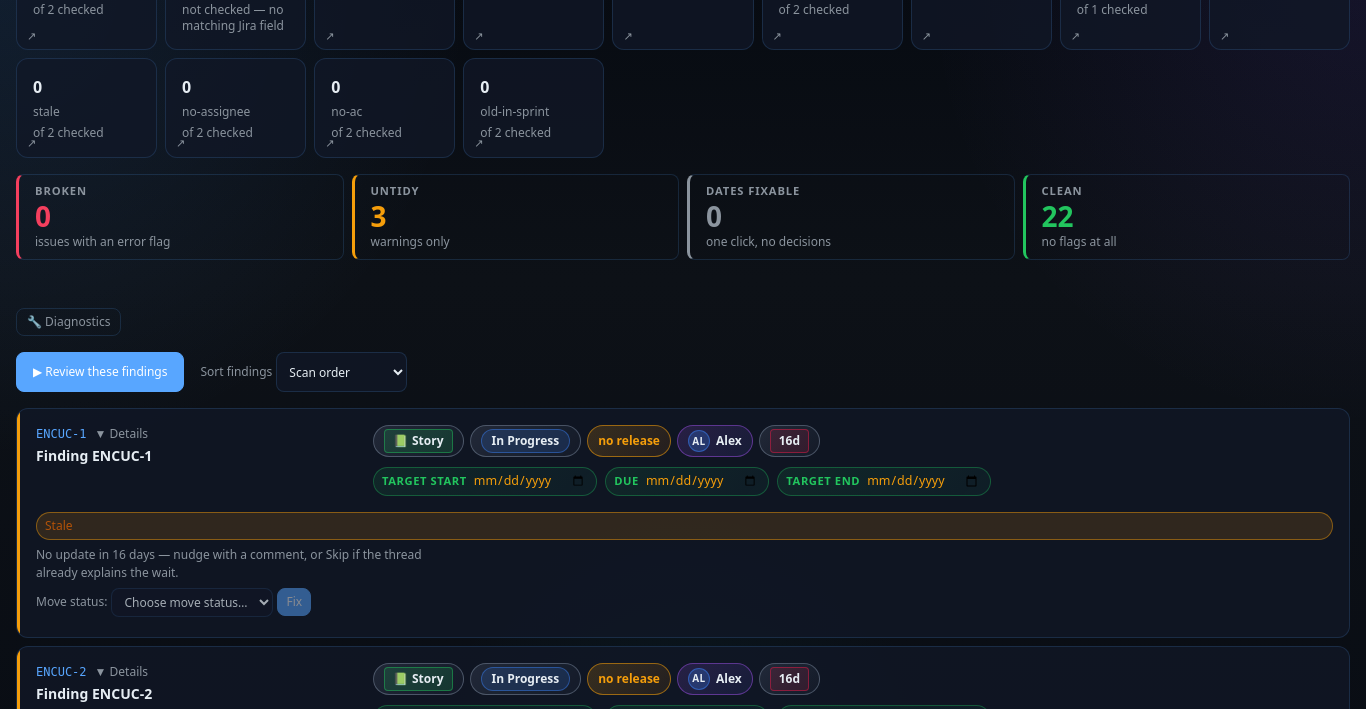
Test case: HygieneView › Skip settles the current finding visibly and advances the cursor
The image size is (1366, 709).
(page scrolled)
Click the button "▶ Review these findings" at point(100, 372), box [16,352,184,392]
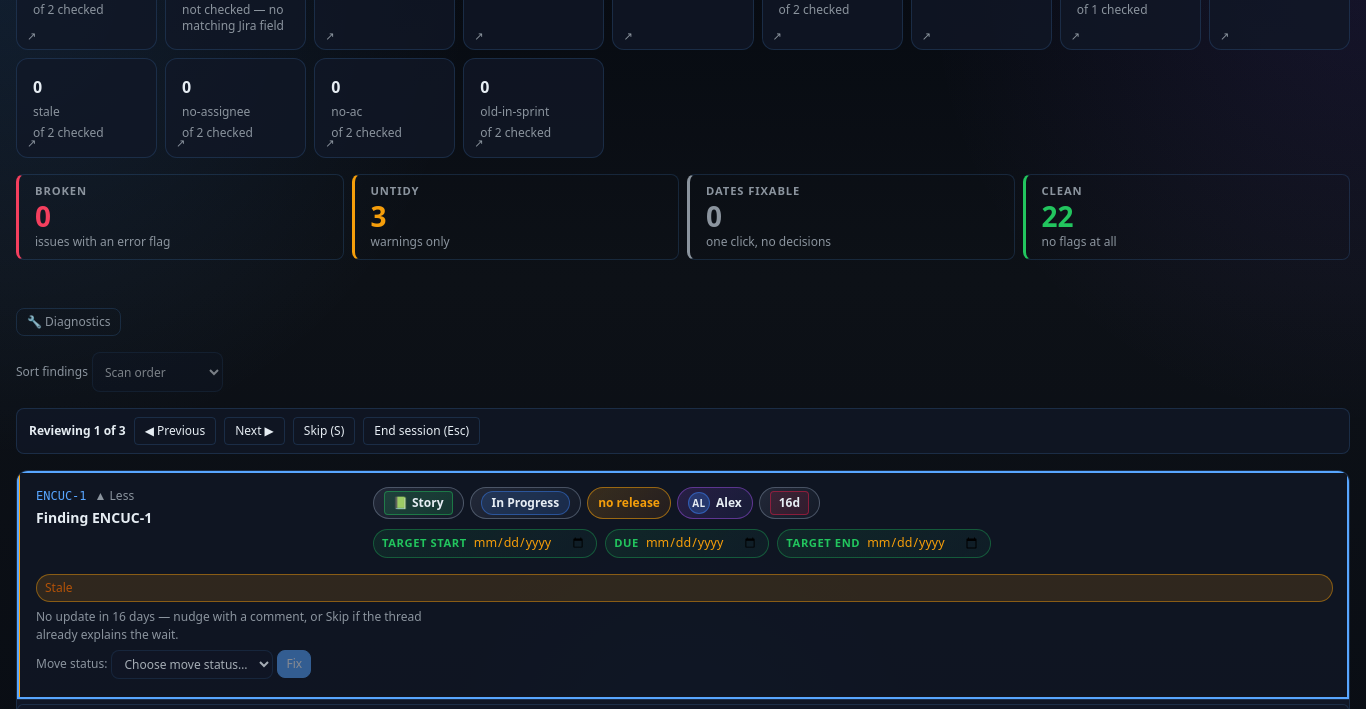
Click the button "Skip (S)" at point(324, 431), box [293,417,355,445]
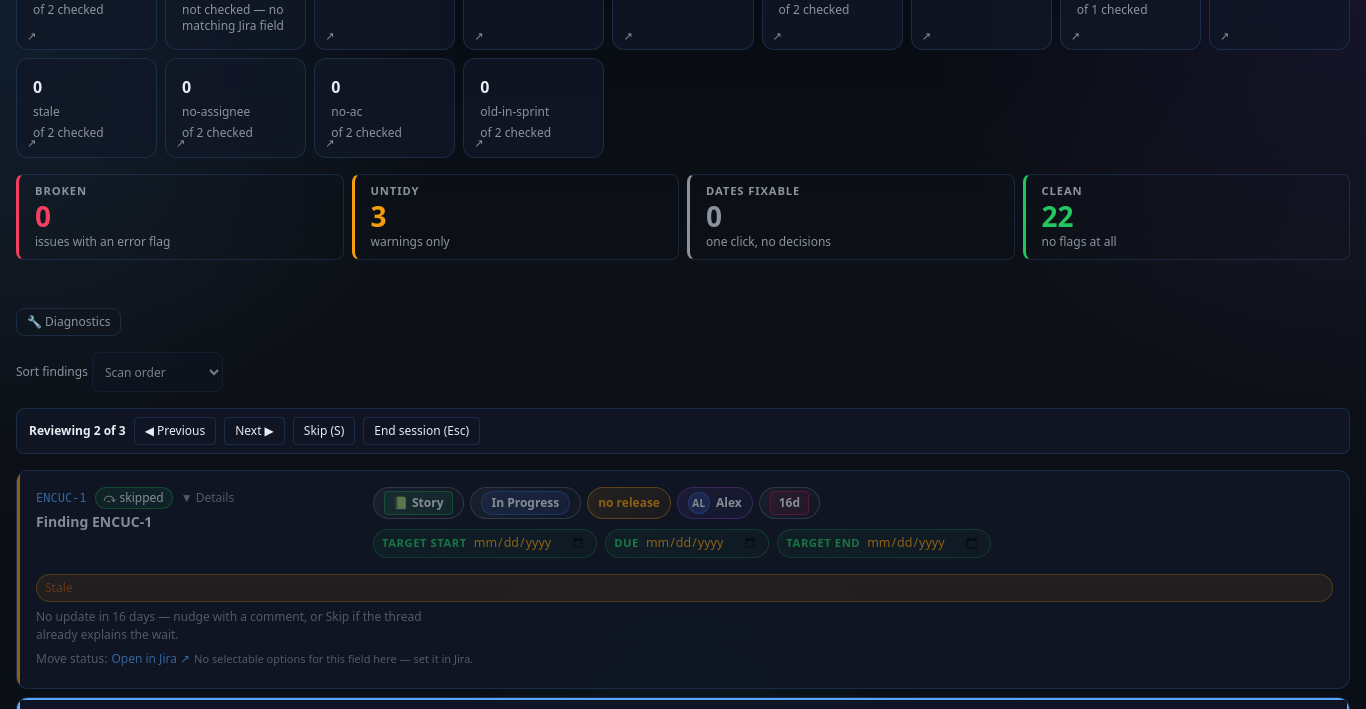
Now the text "Reviewing 2 of 3" is shown, box [29,422,126,440]
Now the text "⤼ skipped" is shown, box [95,487,173,509]
